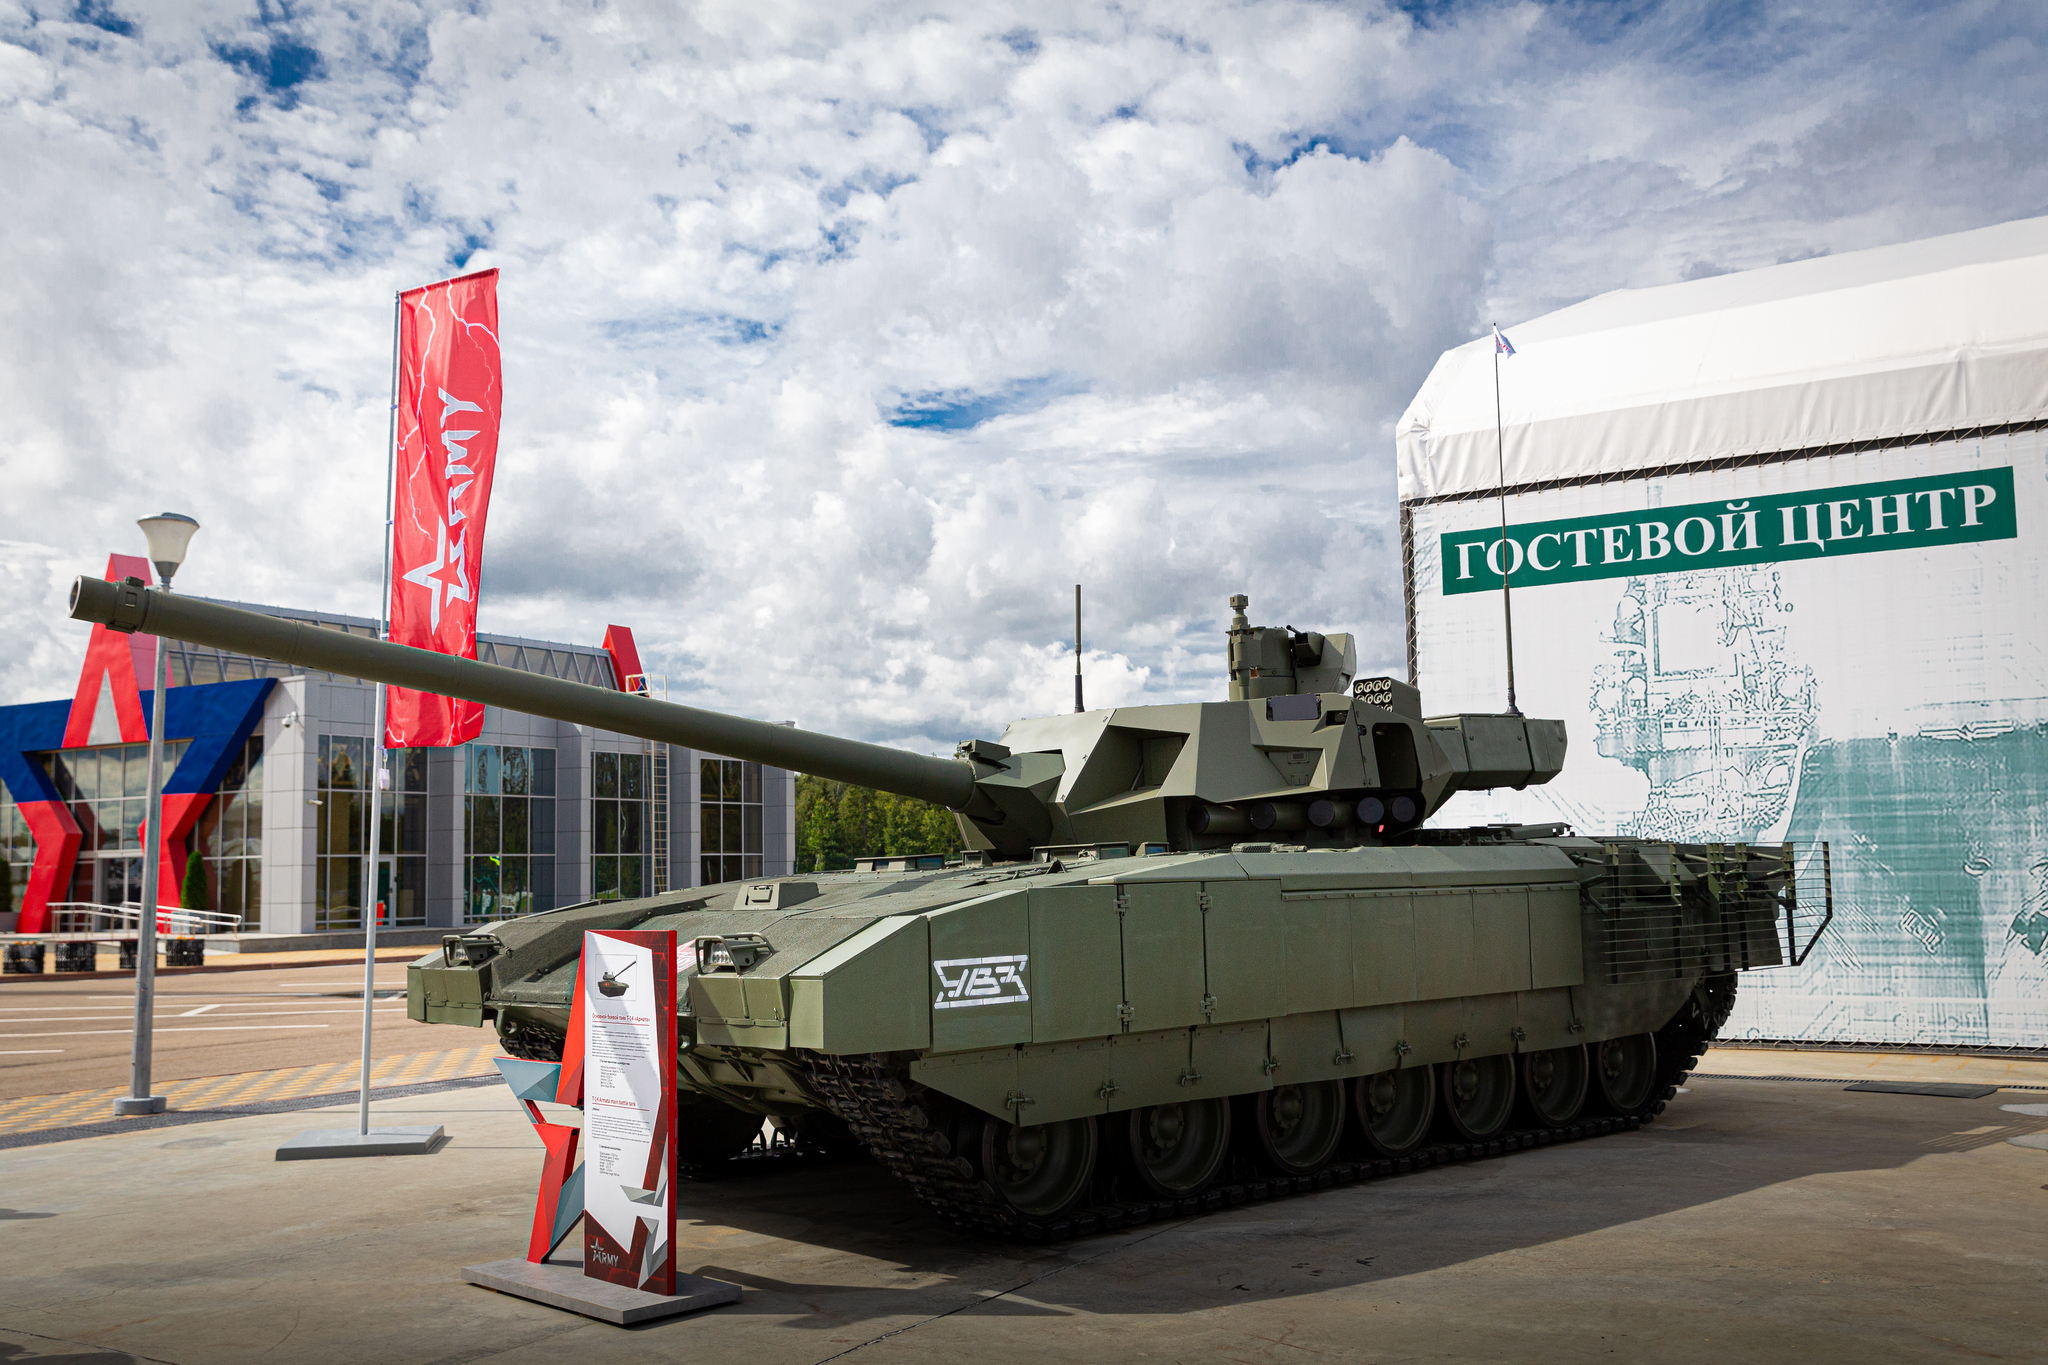warauto: (203, 305, 1995, 1280), (1386, 462, 2048, 922)
